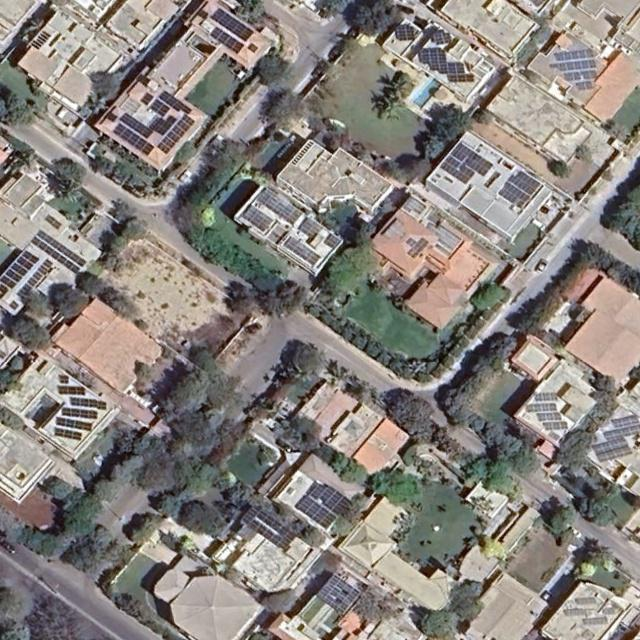solar panel: (412, 37, 481, 95), (440, 141, 494, 191), (242, 504, 297, 552), (37, 230, 87, 268), (32, 237, 80, 274), (317, 573, 359, 614), (257, 188, 302, 225), (157, 113, 195, 155), (309, 479, 350, 517), (295, 495, 337, 532), (211, 7, 254, 43), (113, 123, 155, 157), (284, 236, 322, 267), (592, 435, 633, 463), (158, 90, 193, 119), (209, 26, 244, 55), (428, 226, 459, 257), (241, 205, 274, 234), (497, 182, 530, 211), (119, 113, 153, 140), (508, 168, 540, 196), (549, 58, 596, 73), (151, 110, 177, 137), (402, 232, 428, 258), (603, 423, 640, 441), (299, 217, 323, 241), (55, 418, 93, 432), (555, 48, 593, 62), (403, 196, 426, 218), (61, 408, 99, 420), (70, 398, 107, 410), (564, 69, 597, 82), (612, 414, 639, 429), (53, 428, 83, 441), (150, 99, 170, 117), (434, 30, 452, 46), (542, 420, 568, 431), (396, 26, 414, 41), (526, 403, 556, 412), (59, 386, 85, 396), (536, 412, 562, 422), (325, 234, 340, 250), (22, 251, 39, 265), (17, 257, 33, 271), (6, 269, 22, 283), (0, 276, 16, 290), (584, 616, 608, 625), (11, 263, 27, 276), (535, 393, 559, 401), (576, 80, 593, 91), (141, 92, 154, 106), (564, 608, 586, 616), (576, 597, 596, 605), (603, 607, 616, 617), (16, 289, 27, 299), (43, 259, 53, 268), (34, 271, 43, 281), (9, 301, 19, 310), (23, 284, 32, 293), (60, 375, 68, 384), (38, 266, 47, 274), (28, 278, 37, 286)
